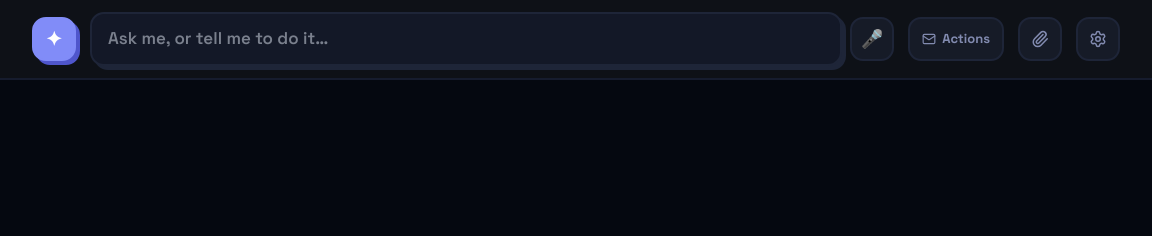
it: CopilotBar — escalate to cloud agent (unified bar) › labels the limited stand-in "limited mode" (same brand — never "offline" or a separate "cloud agent")
Click the field named "Ask the copilot": (466,39) left=90, top=12, right=842, bottom=66
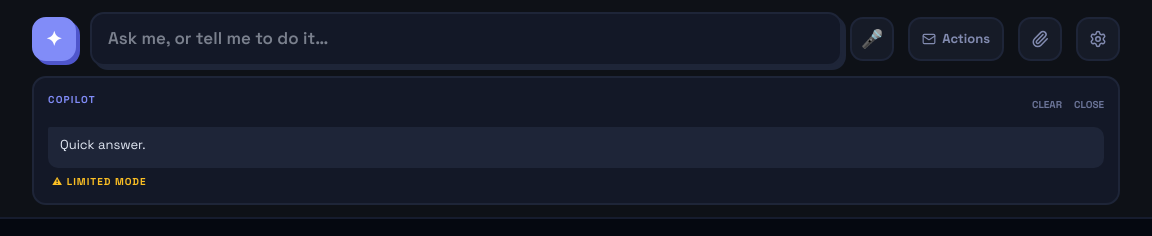
Result: the text "⚠ limited mode" is shown at left=52, top=175, right=146, bottom=188
